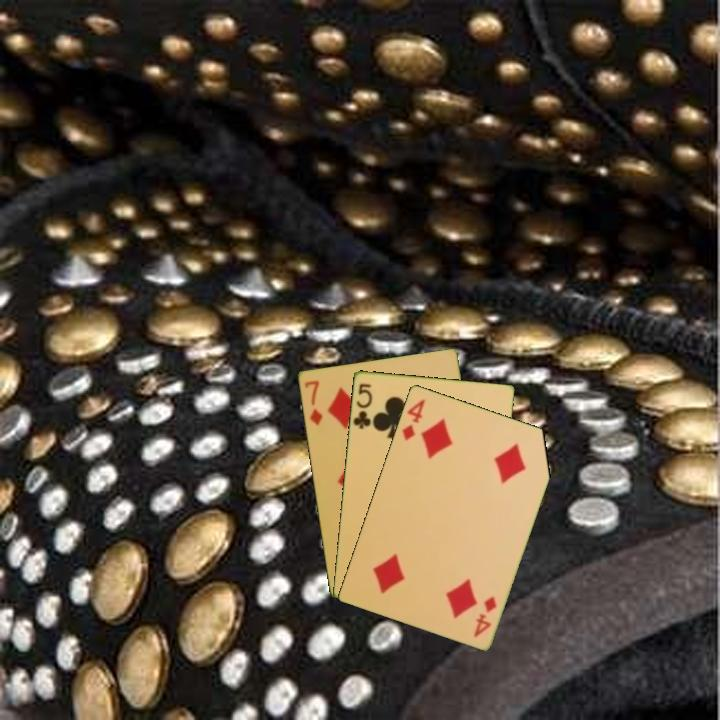4d: (398, 395, 428, 443), (470, 592, 499, 640)
5c: (350, 380, 375, 432)
7d: (301, 376, 325, 428)
